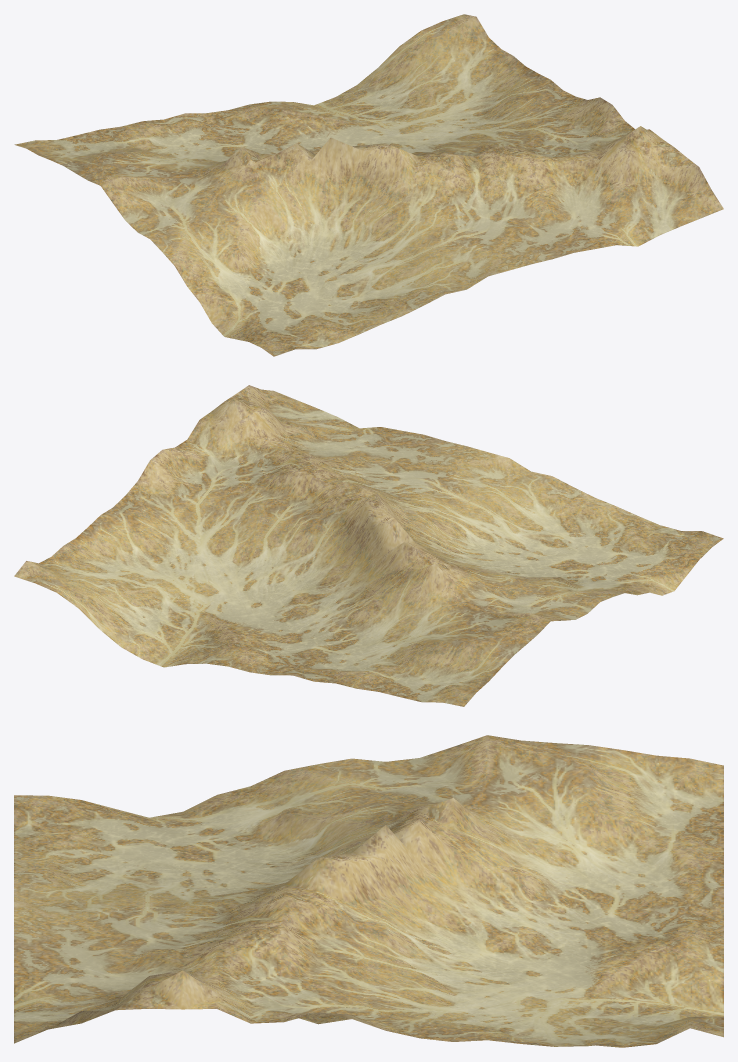
Rendered from desert.fbx.
The picture shows the model from 3 angles, top to bottom: view 1: azimuth 30°, elevation 25°; view 2: azimuth 150°, elevation 25°; view 3: azimuth 270°, elevation 25°; orthographic projection. The views are drawn at different scales.
Parts seen in each view (by area): view 1: terrain; view 2: terrain; view 3: terrain.
Boxes of the visible parts, left/top/right/bottom form: terrain: left=14, top=14, right=723, bottom=356; terrain: left=14, top=385, right=723, bottom=706; terrain: left=14, top=735, right=723, bottom=1047.
Size of the model in its own units: 1000 by 207 by 1000.
1 material, 1 textured.
